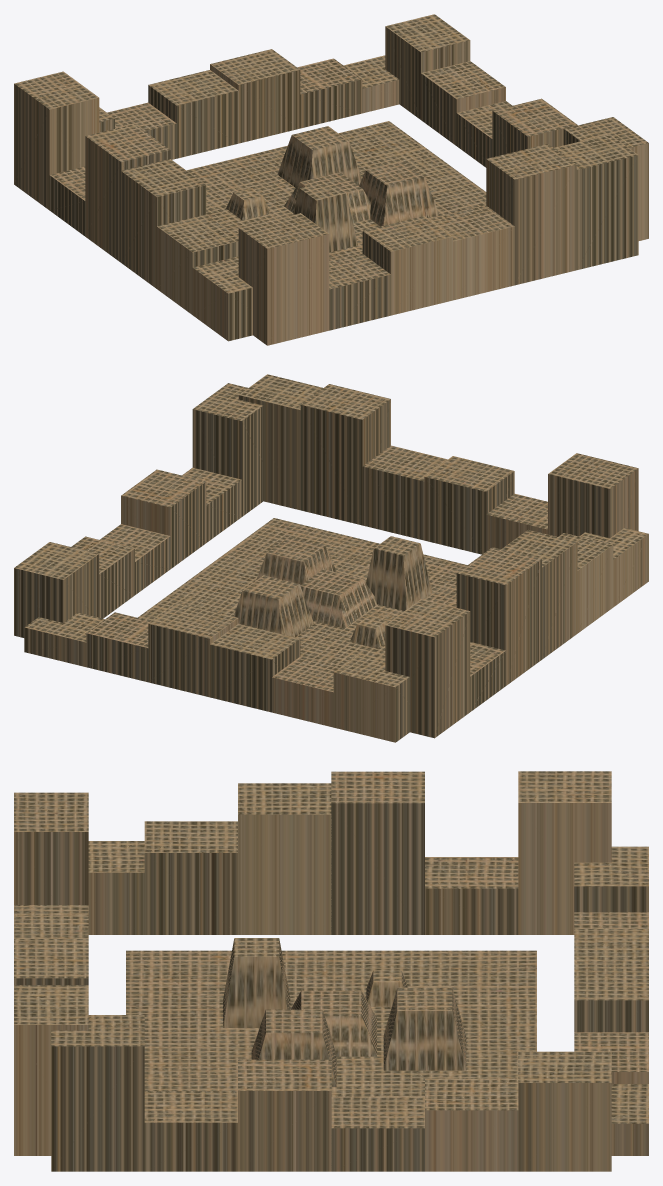
The model's file is destroyed_bunker.glb.
The picture shows the model from 3 angles, top to bottom: view 1: azimuth 30°, elevation 25°; view 2: azimuth 150°, elevation 25°; view 3: azimuth 270°, elevation 25°; orthographic projection. The views are drawn at different scales.
Visible parts, largest first — view 1: DestroyedBunker; view 2: DestroyedBunker; view 3: DestroyedBunker.
Part boxes in pixels (box(x1,y1,x2,y2)): DestroyedBunker: box(14, 14, 648, 345); DestroyedBunker: box(14, 374, 648, 742); DestroyedBunker: box(14, 771, 648, 1171).
Bounding box in the file's own units: 3.4 × 0.8155 × 3.4.
Materials: 1 (1 with a texture image).
